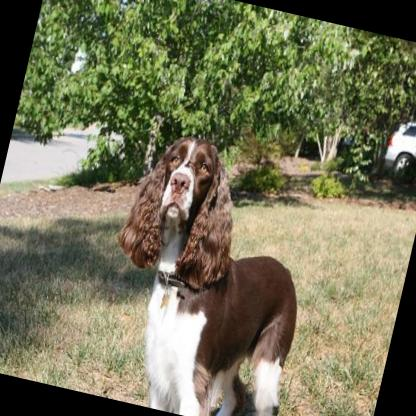English_springer: (80, 125, 330, 416)
